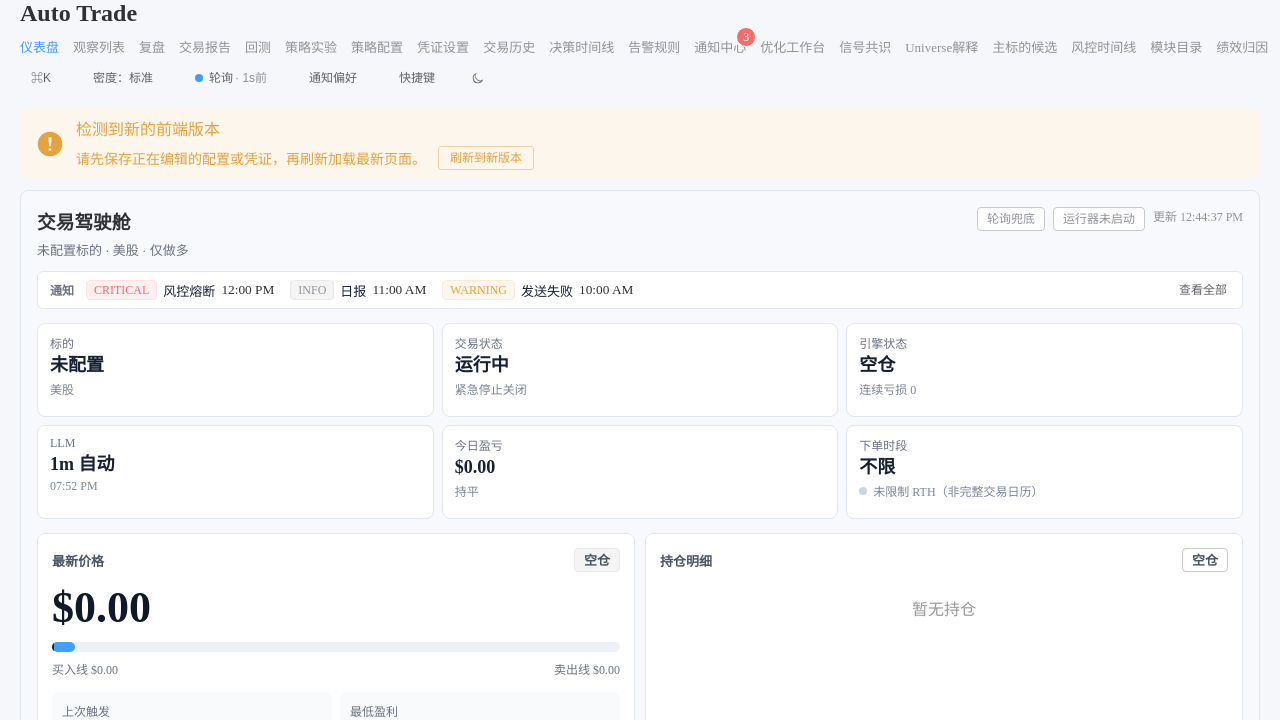
App version updates › requires confirmation and reloads only after the user accepts
The width and height of the screenshot is (1280, 720).
Expected: the message "检测到新的前端版本 请先保存正在编辑的配置或凭证，再刷新加载最新页面。 刷新到新版本" is shown, [20,110,1260,178]
Click the button with test id "app-version-reload" at (486, 158), box [438,146,534,170]
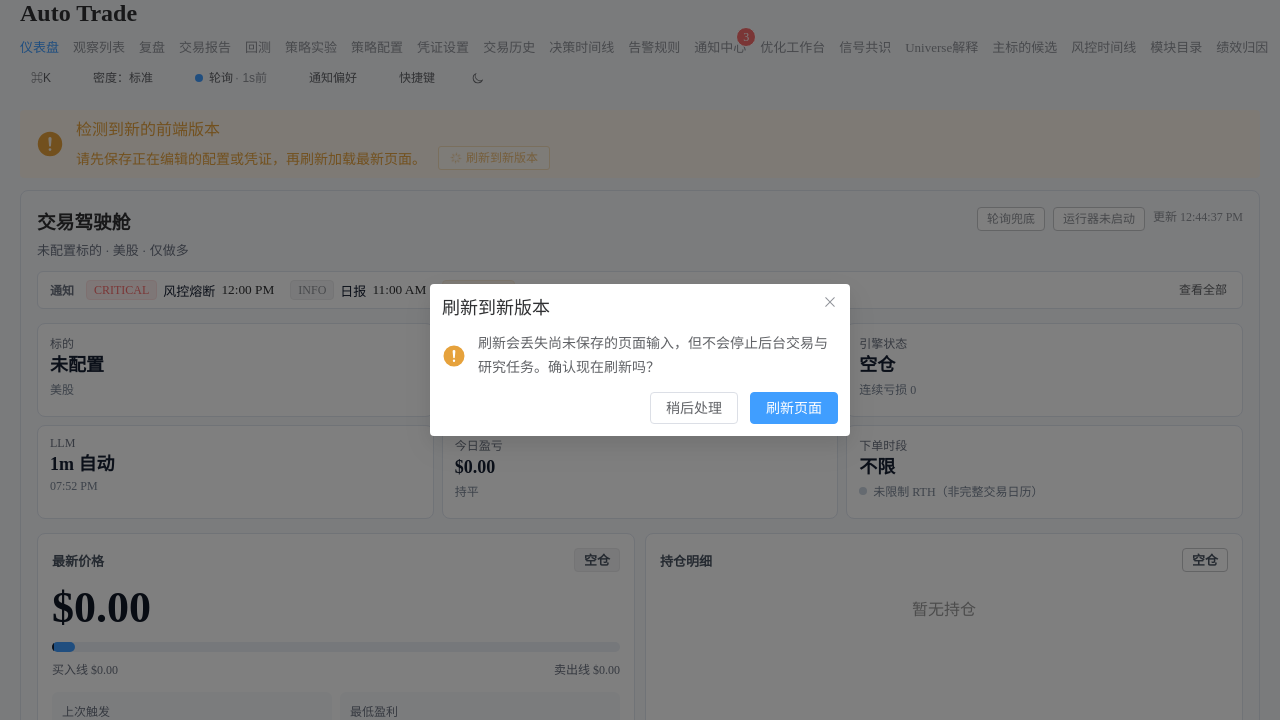
Expected: the text "刷新会丢失尚未保存的页面输入，但不会停止后台交易与研究任务。确认现在刷新吗？" is shown, [478,332,838,380]
Click the button "稍后处理" at (694, 408), box [650,392,738,424]
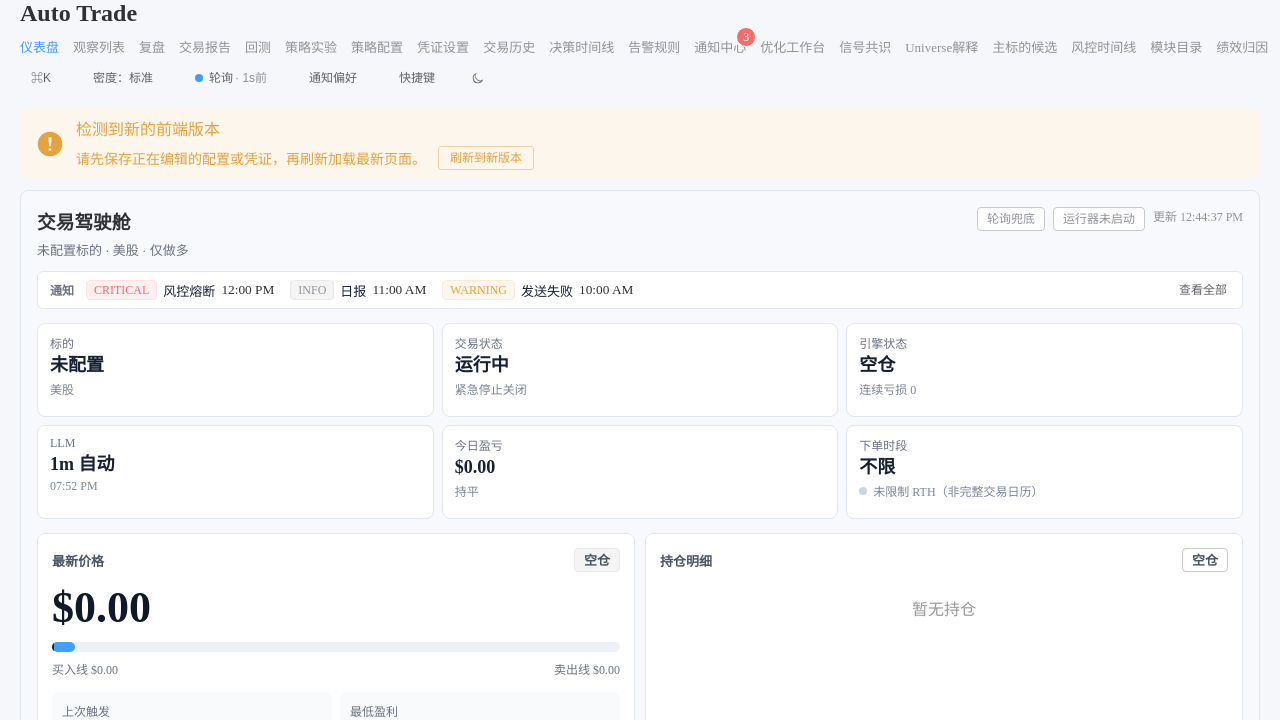
Expected: the message "检测到新的前端版本 请先保存正在编辑的配置或凭证，再刷新加载最新页面。 刷新到新版本" is shown, [20,110,1260,178]
Click the button with test id "app-version-reload" at (486, 158), box [438,146,534,170]
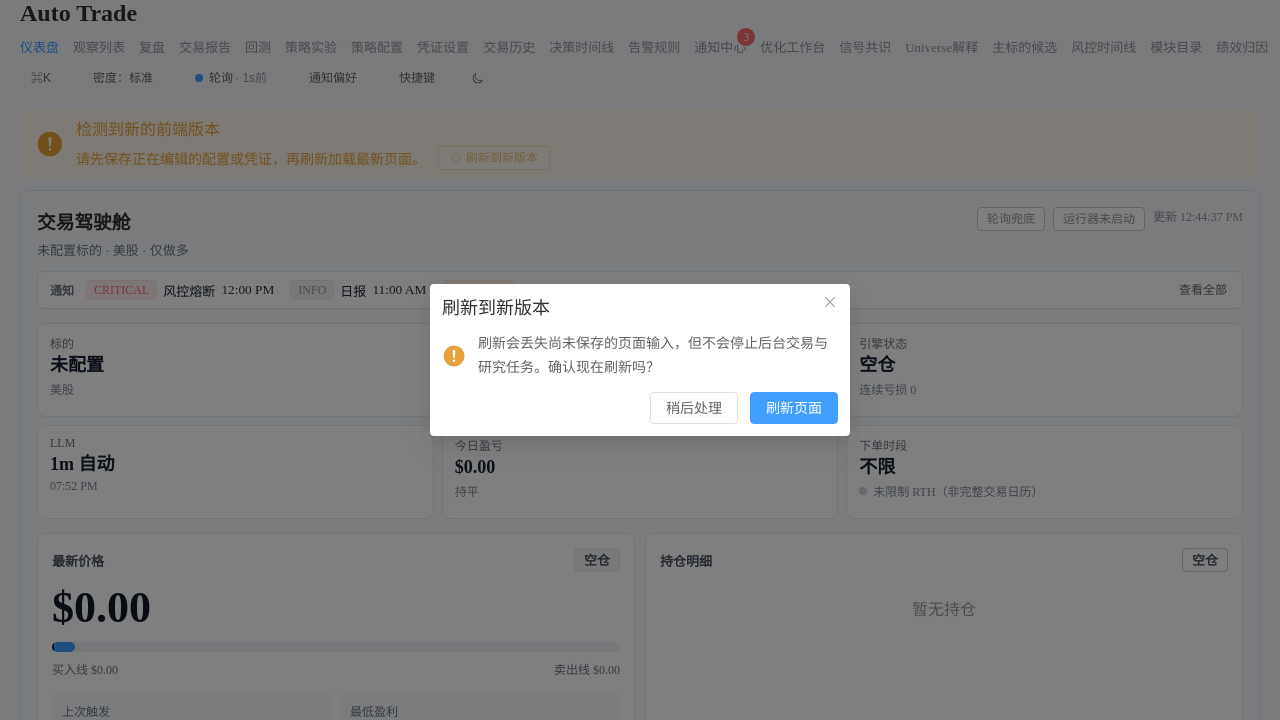
Click the button "刷新页面" at (794, 408), box [750,392,838,424]
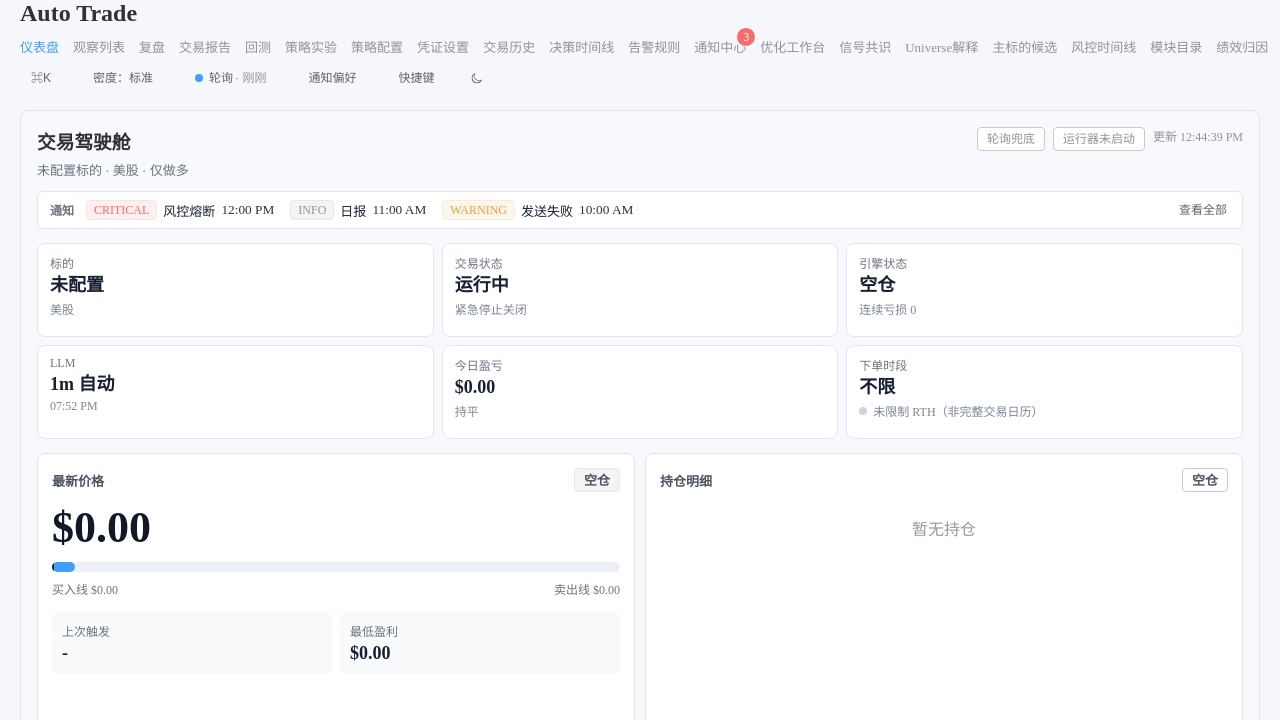
Expected: the message with test id "app-version-update" is gone
